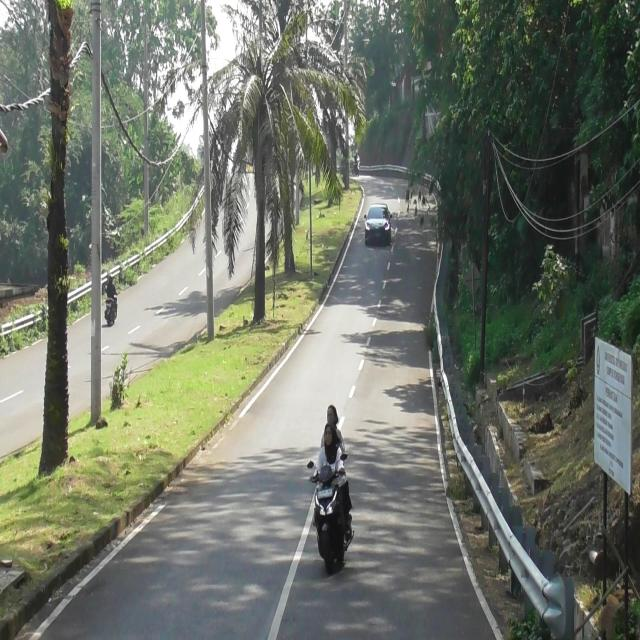motorcycle: (307, 455, 347, 570), (104, 296, 118, 327)
person: (311, 427, 344, 475), (320, 404, 344, 454), (106, 276, 118, 298)
rider_region: (306, 402, 356, 575), (104, 273, 118, 328)
